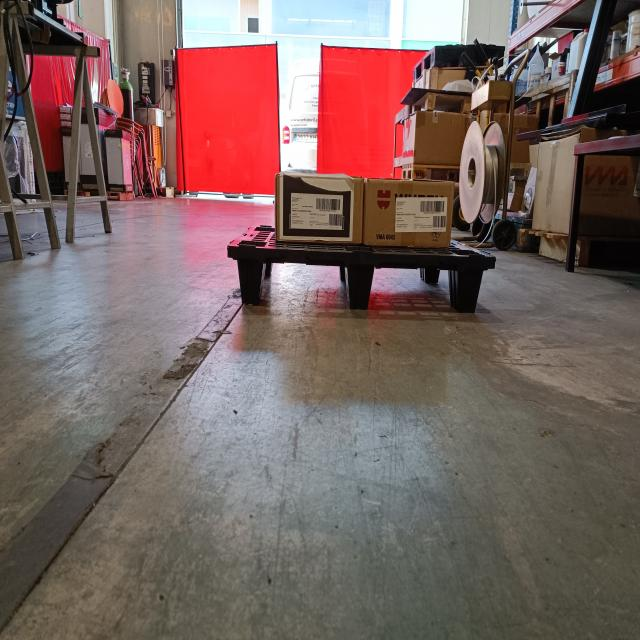block: (451, 255, 494, 314), (230, 248, 270, 310), (345, 252, 378, 310)
front: (227, 243, 498, 318)
